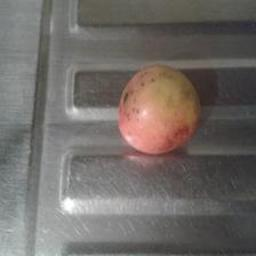Mango Semifresh: (105, 53, 209, 155)
